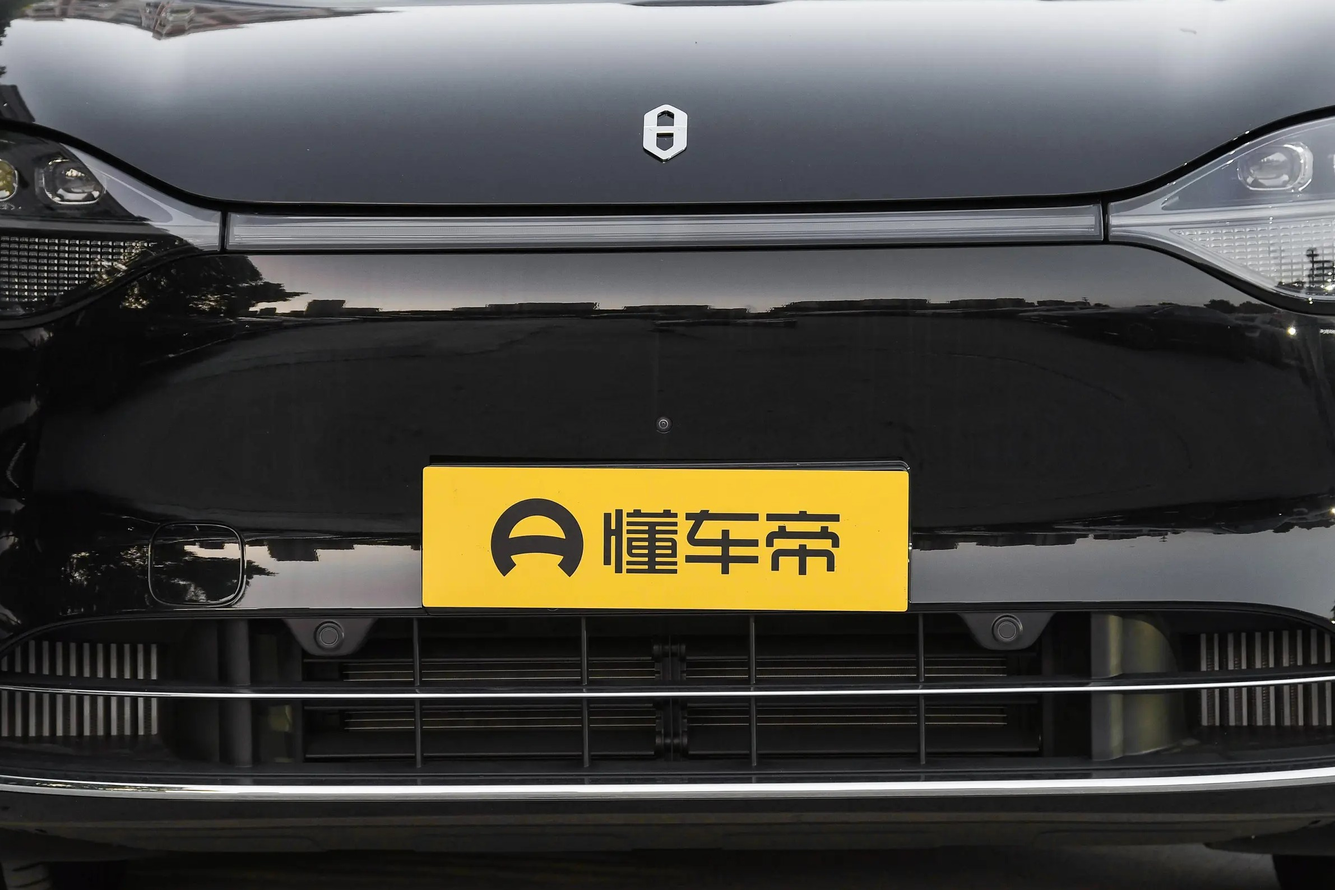AITO: (644, 105, 687, 161)
